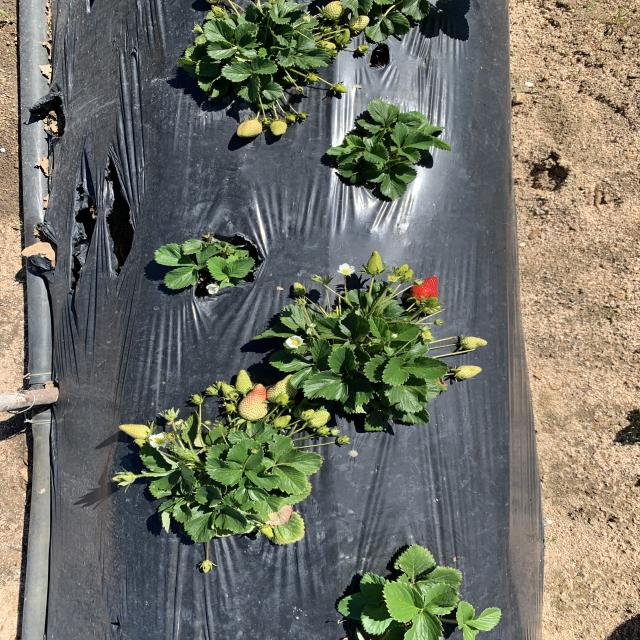unripe: (409, 275, 442, 303)
